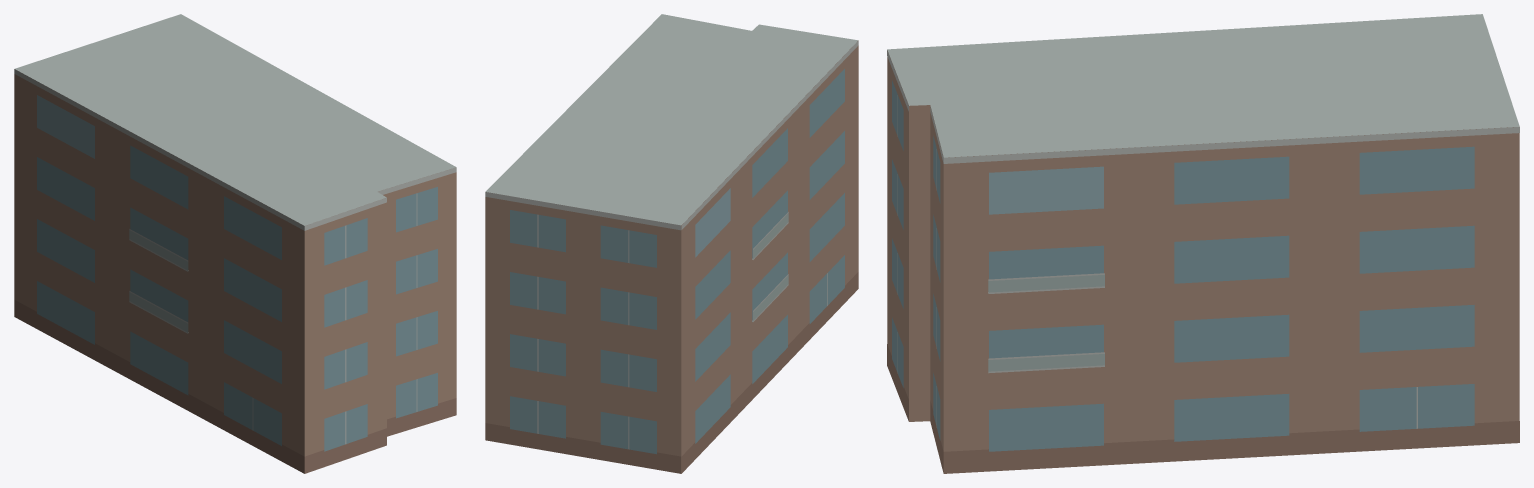
File: survey-upis-32988690.glb
3 views of the same model, side by side, from view 1: azimuth 30°, elevation 25°; view 2: azimuth 150°, elevation 25°; view 3: azimuth 270°, elevation 25° (orthographic). The views are drawn at different scales.
Parts seen in each view (by area): view 1: survey-upis-32988690.tmp; view 2: survey-upis-32988690.tmp; view 3: survey-upis-32988690.tmp.
Part boxes in pixels (left/top/right/bottom): survey-upis-32988690.tmp: left=14, top=14, right=456, bottom=473; survey-upis-32988690.tmp: left=485, top=14, right=858, bottom=473; survey-upis-32988690.tmp: left=887, top=14, right=1519, bottom=473.
Bounding box in the file's own units: 11.9 × 12.2 × 22.14.
